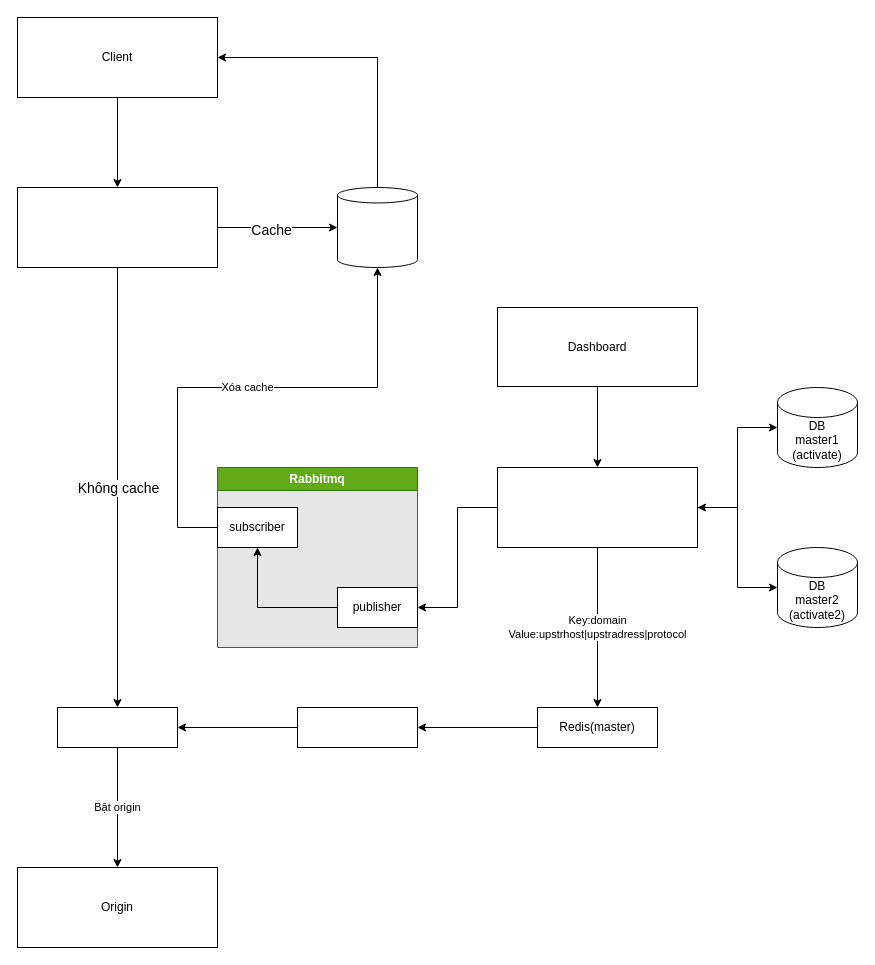
The diagram is 875 pixels wide and 965 high, and some of its shapes have lost their labels. Here are the shapes that lost their labels. From the top down, the centre of each, then its label:
pixel 117 227: Nginx(openresty) port: 80 Kiểm tra xem có cache hay không.
pixel 377 227: Nginx Cache Storage
pixel 597 507: API(fastapi) port:8080
pixel 117 727: Lua
pixel 357 727: Redis(slave)
